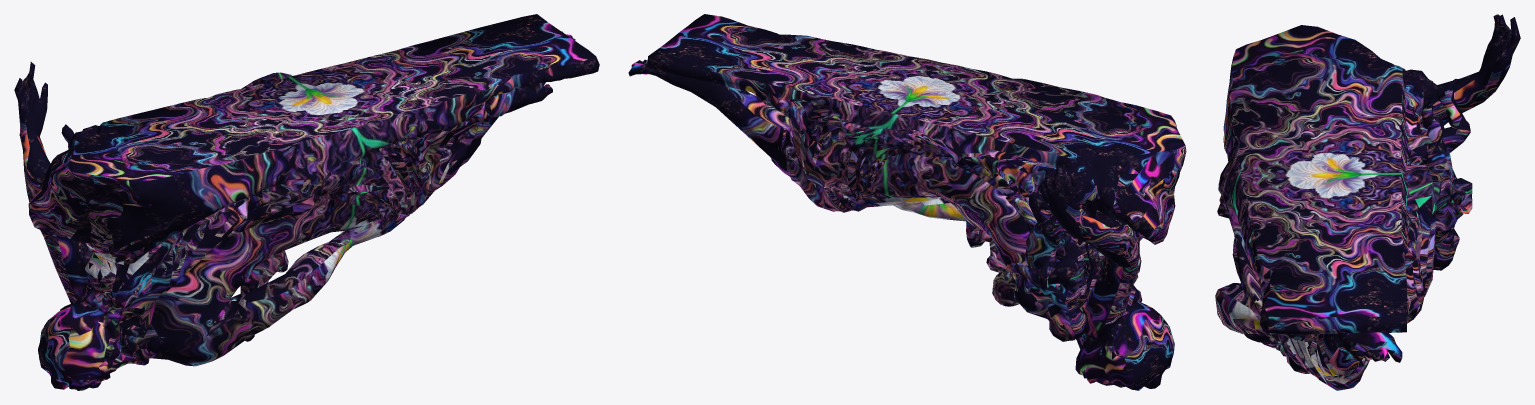
Rendered from tds_sleeping-hermaphroditus.glb.
3 views of the same model, side by side, from view 1: azimuth 30°, elevation 25°; view 2: azimuth 150°, elevation 25°; view 3: azimuth 270°, elevation 25° (orthographic). The views are drawn at different scales.
Parts seen in each view (by area): view 1: A; view 2: A; view 3: A.
Part boxes in pixels (x1,y1,x2,y2): A: [14, 14, 599, 390]; A: [628, 14, 1186, 390]; A: [1215, 14, 1520, 390].
Bounding box in the file's own units: 2 × 0.9465 × 0.8237.
1 material, 1 textured.
